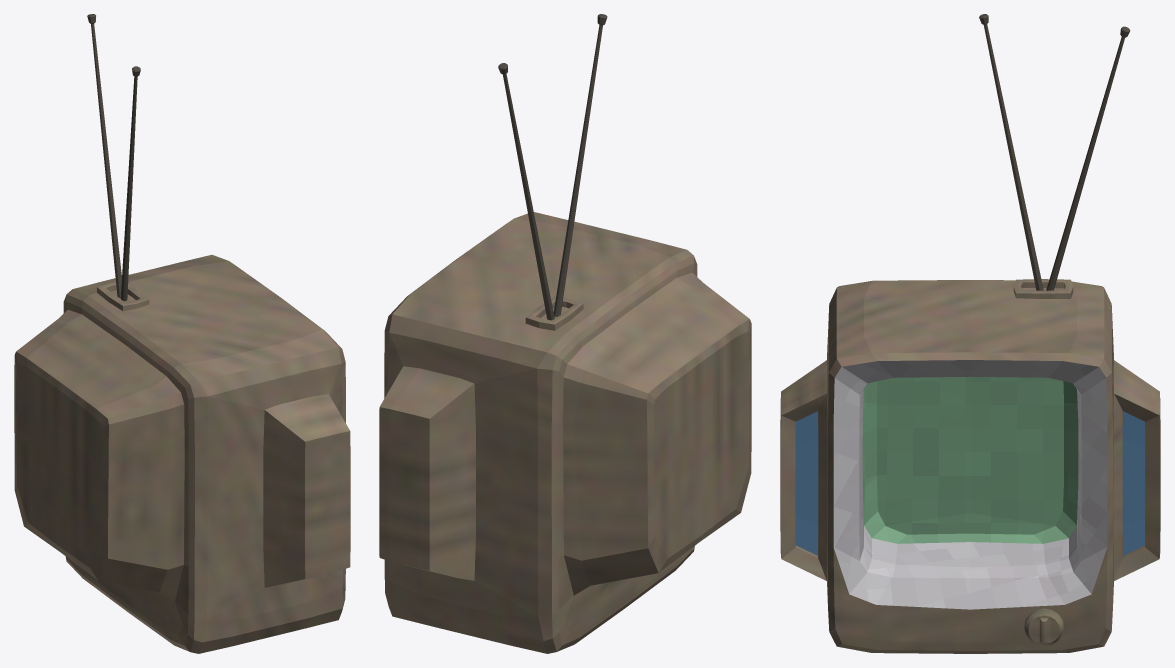
The picture shows the model from 3 angles, left to right: view 1: azimuth 30°, elevation 25°; view 2: azimuth 150°, elevation 25°; view 3: azimuth 270°, elevation 25°; orthographic projection. The views are drawn at different scales.
Visible parts, largest first — view 1: TV; view 2: TV; view 3: TV.
Part boxes in pixels (bbox=[...]): TV: bbox=[14, 14, 350, 653]; TV: bbox=[379, 14, 751, 653]; TV: bbox=[780, 14, 1160, 653].
Size of the model in its own units: 51.2 by 114 by 68.74.
